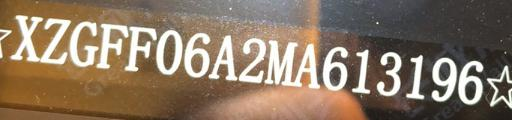letter: (120, 21, 162, 73), (260, 33, 300, 87), (204, 32, 242, 82), (8, 11, 44, 63), (93, 19, 131, 68), (290, 38, 324, 90), (37, 16, 73, 65), (152, 25, 186, 76), (374, 47, 408, 96), (236, 33, 268, 85), (320, 40, 352, 92), (346, 43, 378, 95), (66, 19, 100, 66), (182, 30, 214, 79), (426, 55, 460, 101), (400, 52, 432, 100), (458, 56, 488, 106)
